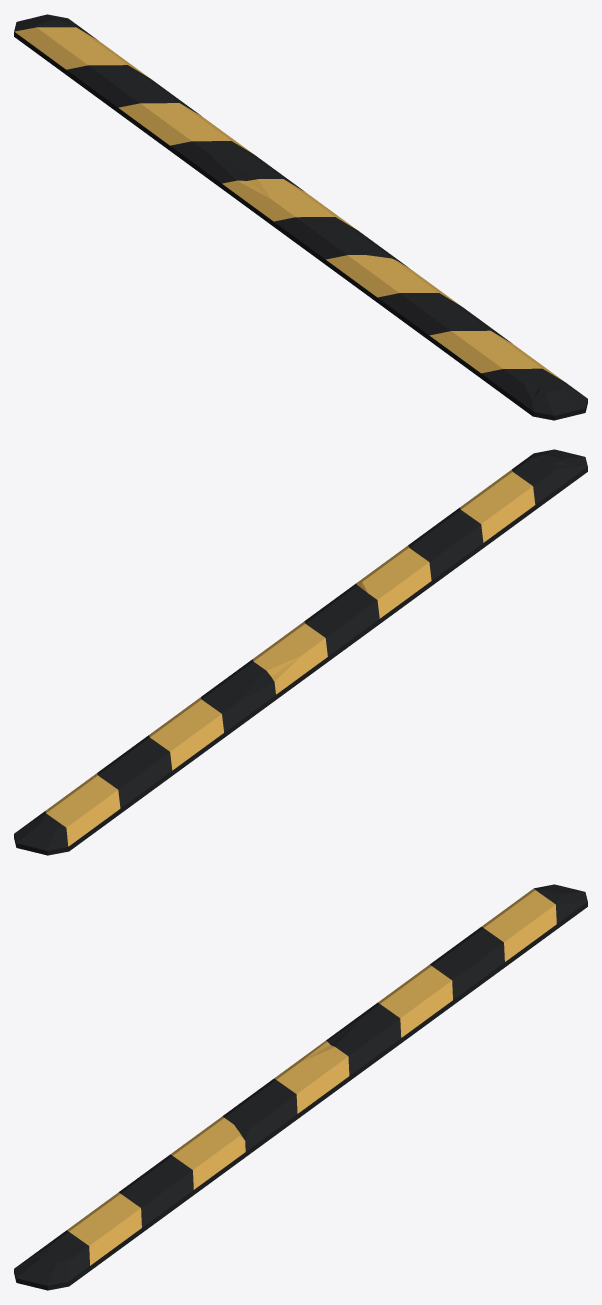
Rendered from SM_Env_Road_SpeedBump_01.fbx.
3 views of the same model, one above another, from view 1: azimuth 30°, elevation 25°; view 2: azimuth 150°, elevation 25°; view 3: azimuth 330°, elevation 25° (orthographic).
Visible parts, largest first — view 1: SM_Env_Road_SpeedBump_01; view 2: SM_Env_Road_SpeedBump_01; view 3: SM_Env_Road_SpeedBump_01.
Boxes of the visible parts, x1,y1,x2,y2 form: SM_Env_Road_SpeedBump_01: [14, 14, 587, 420]; SM_Env_Road_SpeedBump_01: [14, 449, 587, 855]; SM_Env_Road_SpeedBump_01: [14, 884, 587, 1290].
Bounding box in the file's own units: 52.48 × 12.27 × 887.
